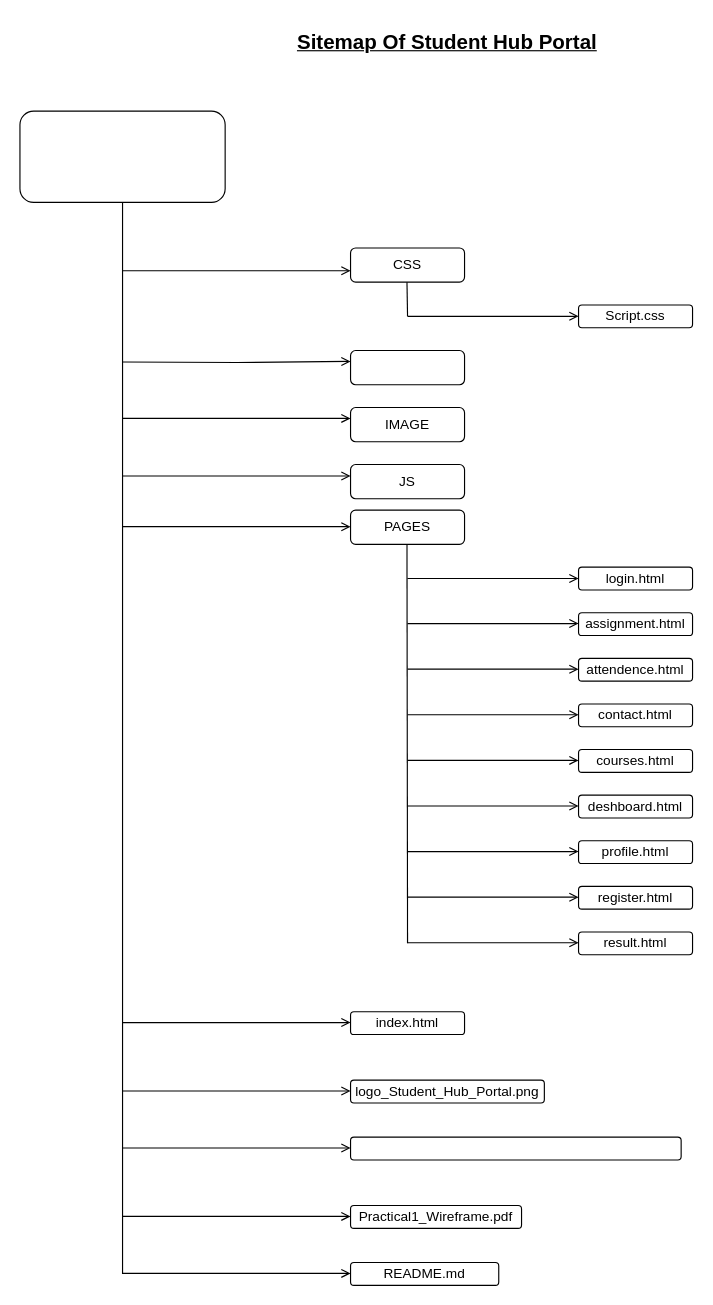
This 713x1305 diagram has some shape labels left out. The centre of each missing label's shape, as x and y in pixels:
"Co_Practical_Webdevelopment" belongs at pixel 122 156.
"DOCS" belongs at pixel 407 367.
"Practical1_Static_Page_Sceenshot_of_Website.pdf" belongs at pixel 515 1148.
